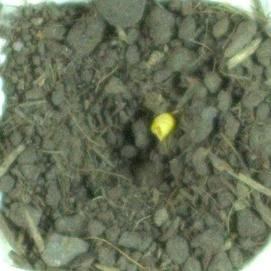chilli seed: (149, 111, 176, 143)
